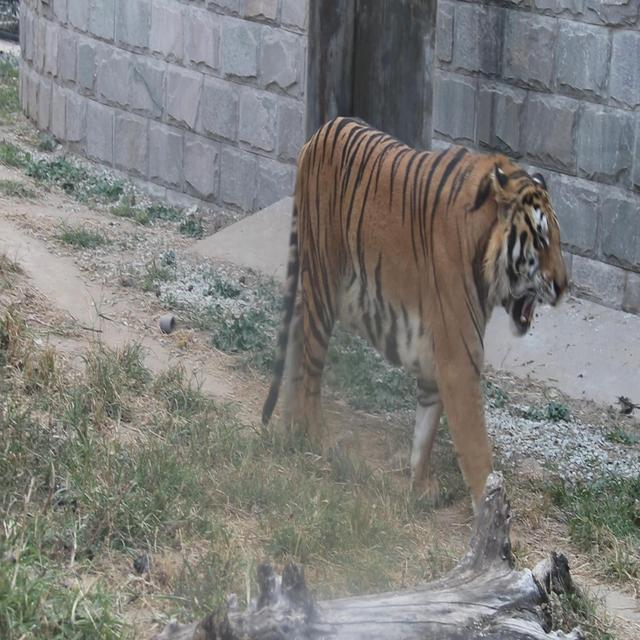tiger: (260, 113, 570, 523)
